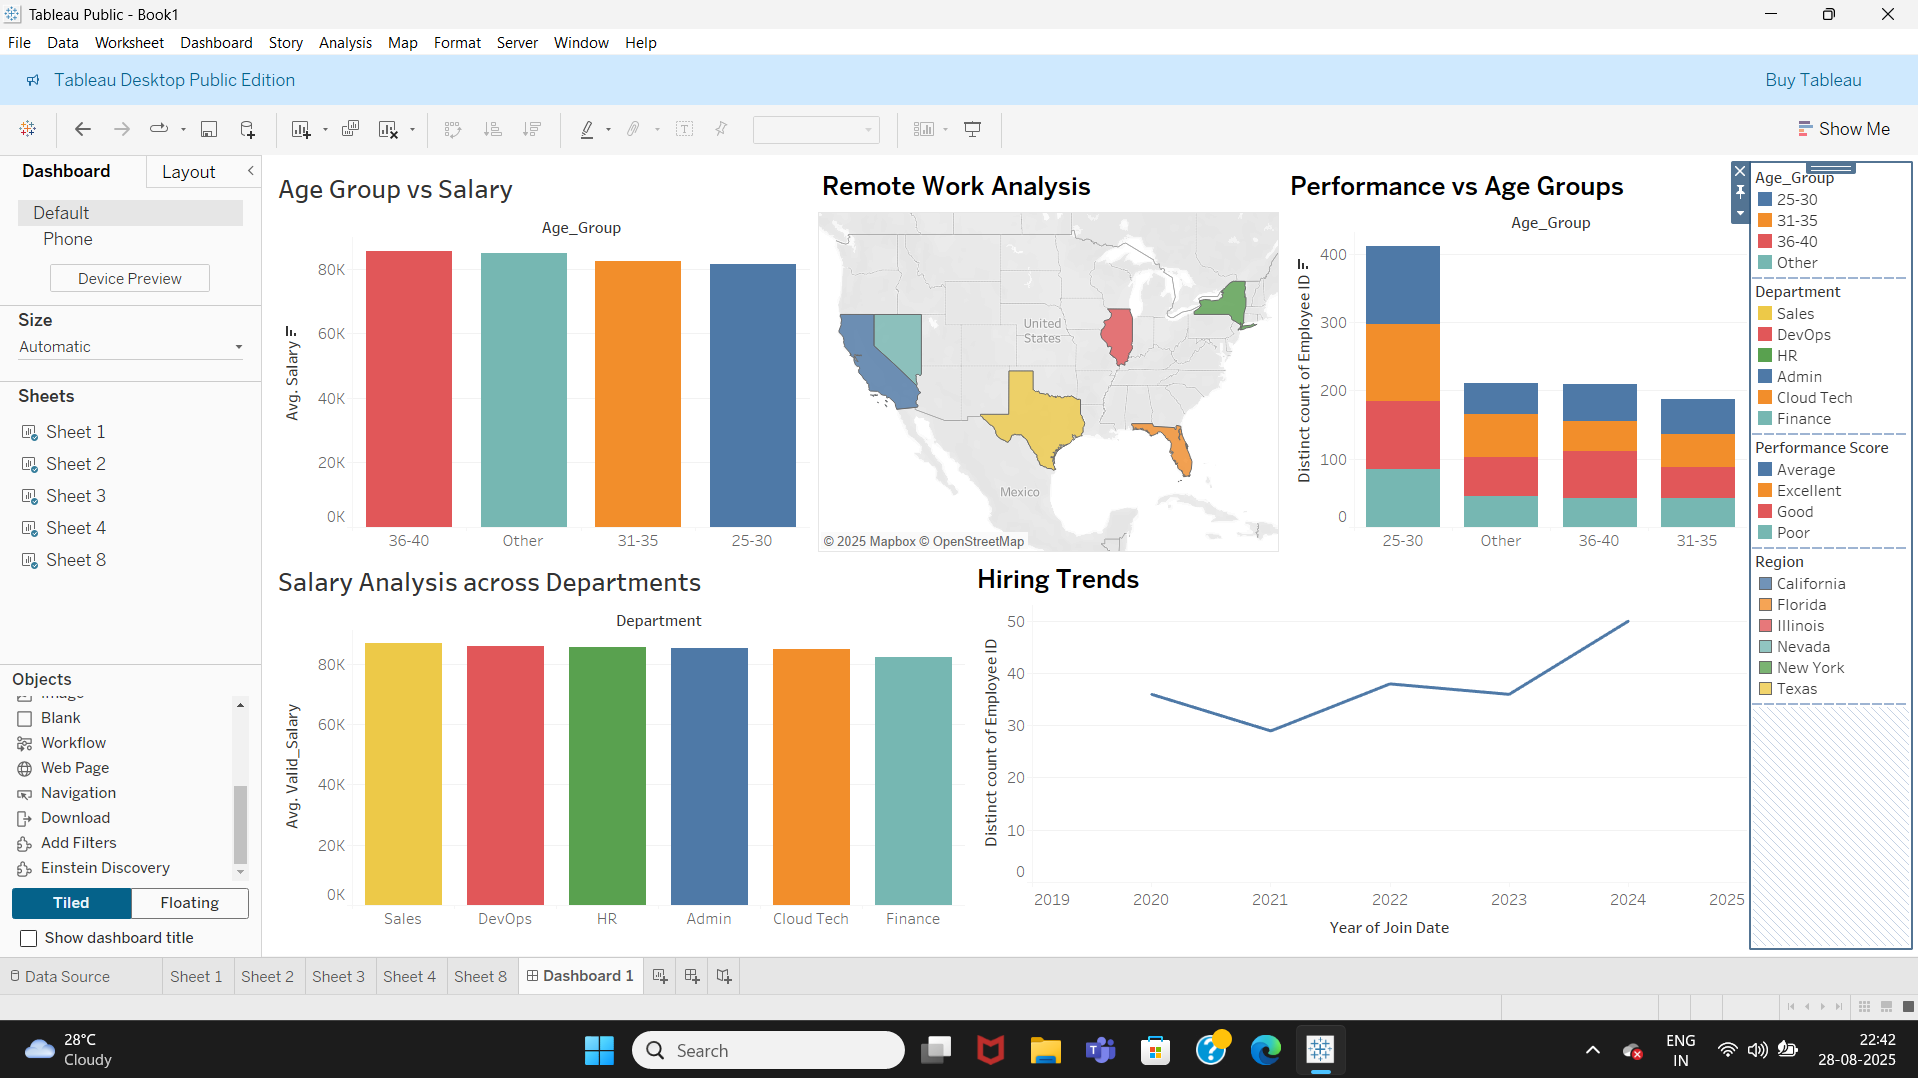

The page's visual inventory and layout, read from the dashboard file:
{"tool":"tableau","page":{"name":"Dashboard 1","canvas":[1000,1000],"units":"permille","ordinal":0},"visuals":[{"type":"worksheet","title":"Sheet 1","mark":"Automatic","rows":["Salary"],"cols":["Calculation_1412722954276069376"],"box":[4.8,10,328.3,490]},{"type":"worksheet","title":"Sheet 8","mark":"Multipolygon","box":[333.1,10,282.7,490]},{"type":"worksheet","title":"Sheet 3","mark":"Automatic","rows":["Employee_ID"],"cols":["Calculation_1412722954276069376"],"box":[615.9,10,282.7,490]},{"type":"legend","title":"Sheet 1","param":"[federated.1wdboyf0hooc7l1dffprl078ci9z].[none:Calculation_1412722954276069376:n","box":[898.6,10,96.6,142.3]},{"type":"legend","title":"Sheet 2","param":"[federated.1wdboyf0hooc7l1dffprl078ci9z].[none:Department:nk]","box":[898.6,152.3,96.6,194.8]},{"type":"legend","title":"Sheet 3","param":"[federated.1wdboyf0hooc7l1dffprl078ci9z].[none:Performance_Score:nk]","box":[898.6,347.1,96.6,142.3]},{"type":"legend","title":"Sheet 8","param":"[federated.1wdboyf0hooc7l1dffprl078ci9z].[none:Region:nk]","box":[898.6,489.4,96.6,194.8]},{"type":"worksheet","title":"Sheet 2","mark":"Automatic","rows":["Calculation_1412722954285625345"],"cols":["Department"],"box":[4.8,500,421.8,490]},{"type":"worksheet","title":"Sheet 4","mark":"Line","rows":["Employee_ID"],"cols":["Join_Date"],"box":[426.7,500,471.9,490]}]}

Visuals, with their boxes on the dashboard's canvas, which has no fixed pixel size, in thousandths of its width and height (x1, y1, x2, y2). These are canvas units, not pixel positions in the 1918x1078 screenshot, which may show the page scaled, cropped or inside an application window:
"Sheet 1" worksheet: x1=5 y1=10 x2=333 y2=500
"Sheet 8" worksheet (Multipolygon marks): x1=333 y1=10 x2=616 y2=500
"Sheet 3" worksheet: x1=616 y1=10 x2=899 y2=500
"Sheet 1" legend: x1=899 y1=10 x2=995 y2=152
"Sheet 2" legend: x1=899 y1=152 x2=995 y2=347
"Sheet 3" legend: x1=899 y1=347 x2=995 y2=489
"Sheet 8" legend: x1=899 y1=489 x2=995 y2=684
"Sheet 2" worksheet: x1=5 y1=500 x2=427 y2=990
"Sheet 4" worksheet (Line marks): x1=427 y1=500 x2=899 y2=990
